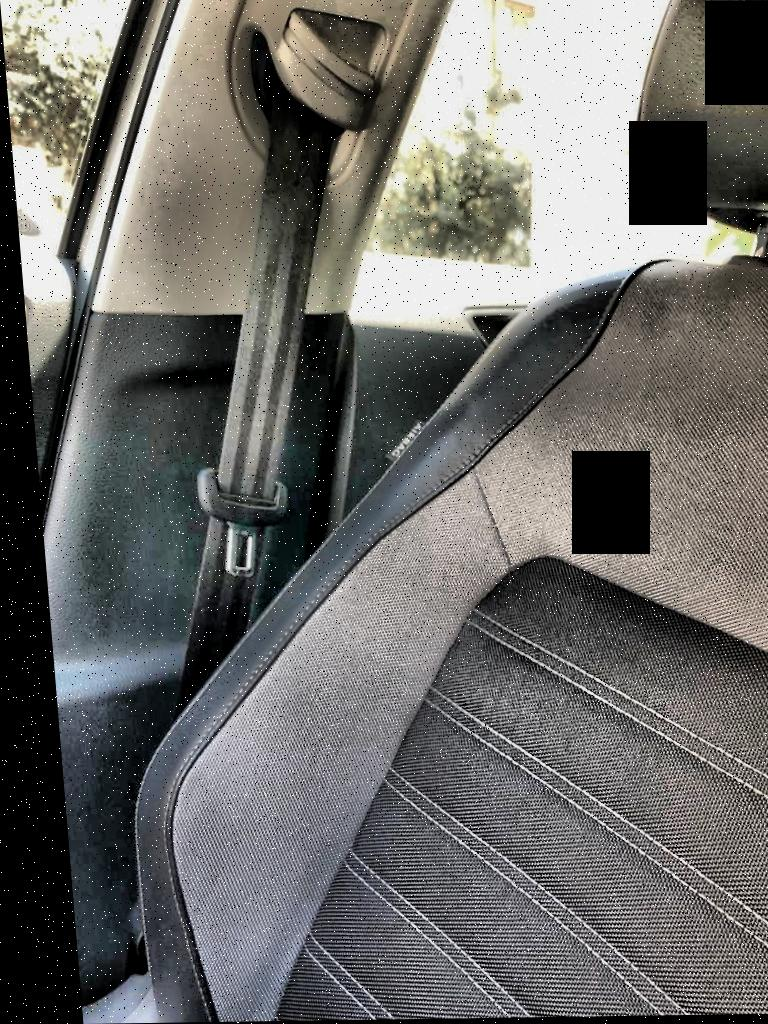seatbelt: (99, 88, 397, 801)
